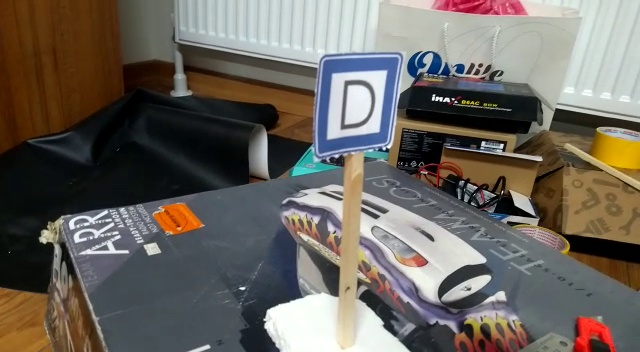durak: (313, 61, 389, 158)
